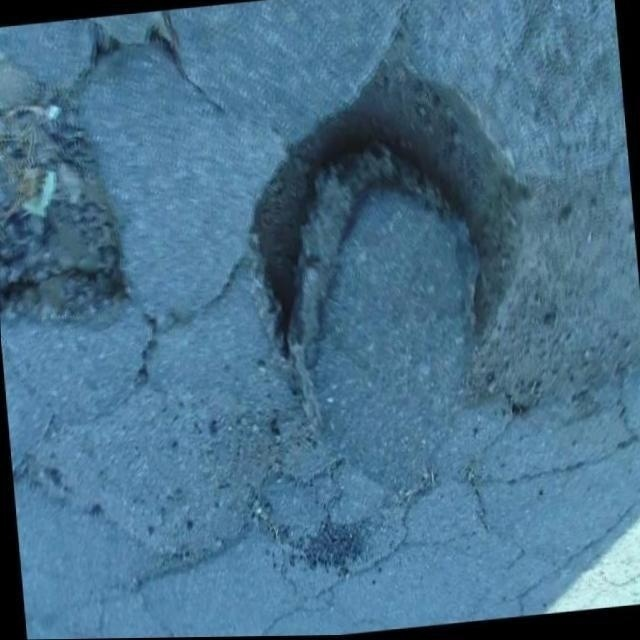pothole: (228, 53, 544, 382), (0, 91, 130, 342)
